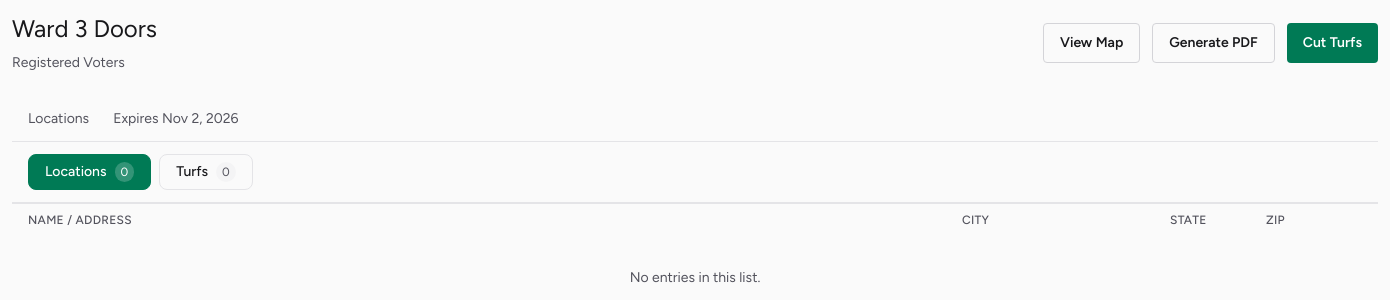
Test: says Generating until the pdf is ready, then offers to download it
This screenshot has width=1390, height=300.
Click the button "Generate PDF": [1214, 43] box [1152,23,1275,63]
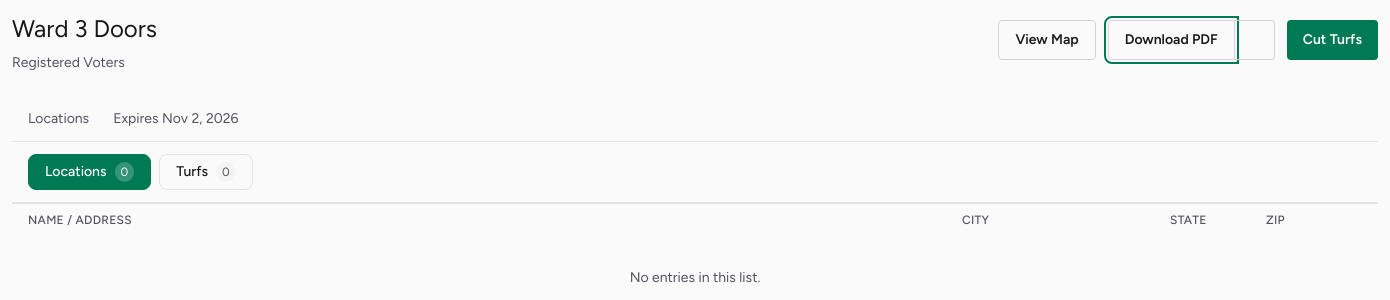
Expected: the button "Download PDF" is shown, [1108,20,1235,60]
Expected: the button named "More PDF options" is shown, [1235,20,1275,60]
